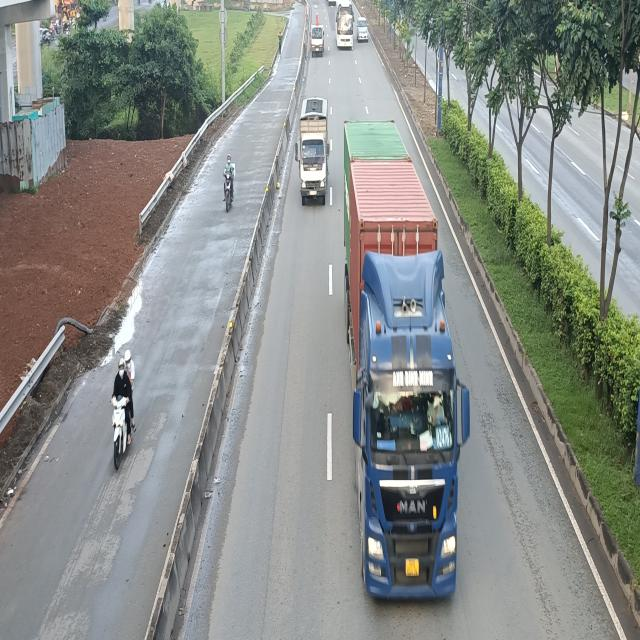coach: (336, 1, 356, 52)
container: (340, 117, 470, 616)
truck: (298, 98, 333, 207), (310, 20, 326, 57)
